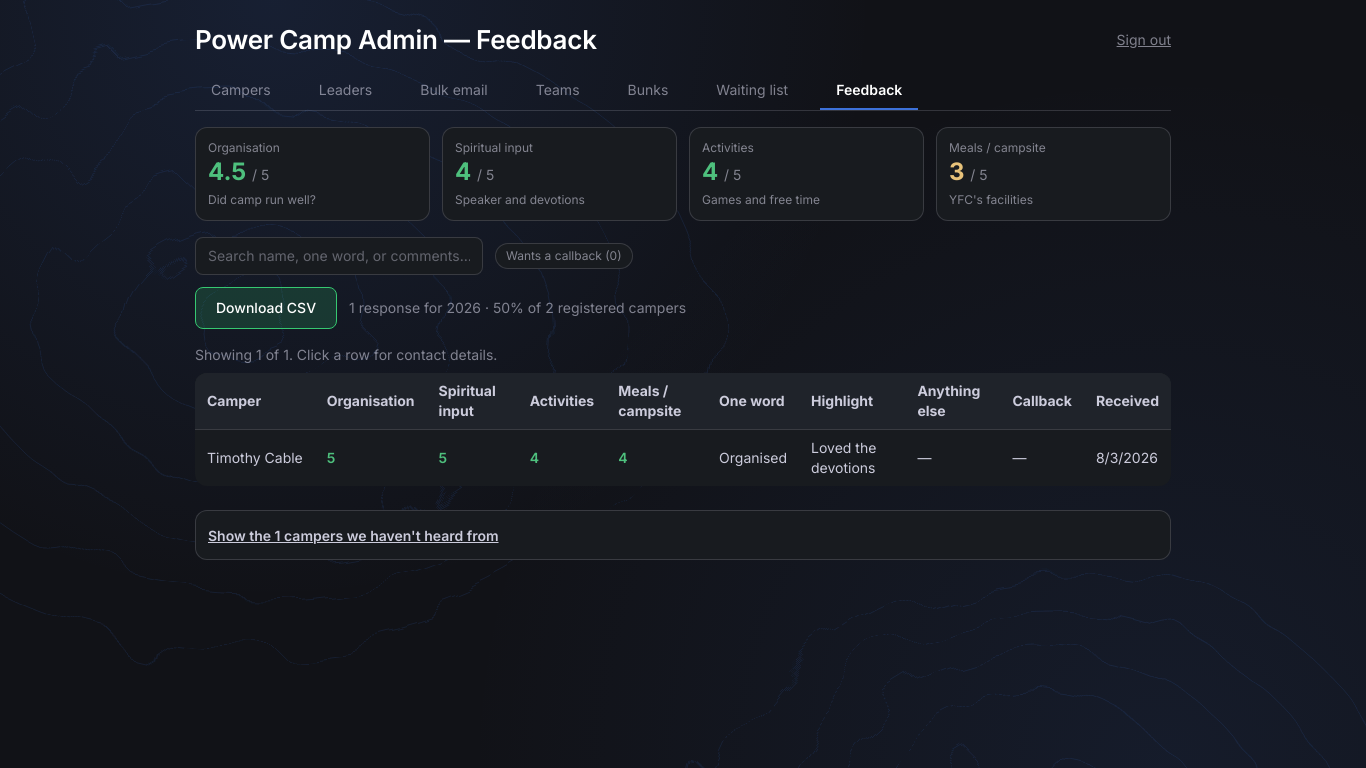
Scenario: AdminFeedbackComponent › keeps the chase list collapsed until asked for
The width and height of the screenshot is (1366, 768).
Check: the text "Emma Cable" is not shown
Click the button with test id "toggle-awaiting": click(353, 536) [208,526,498,546]
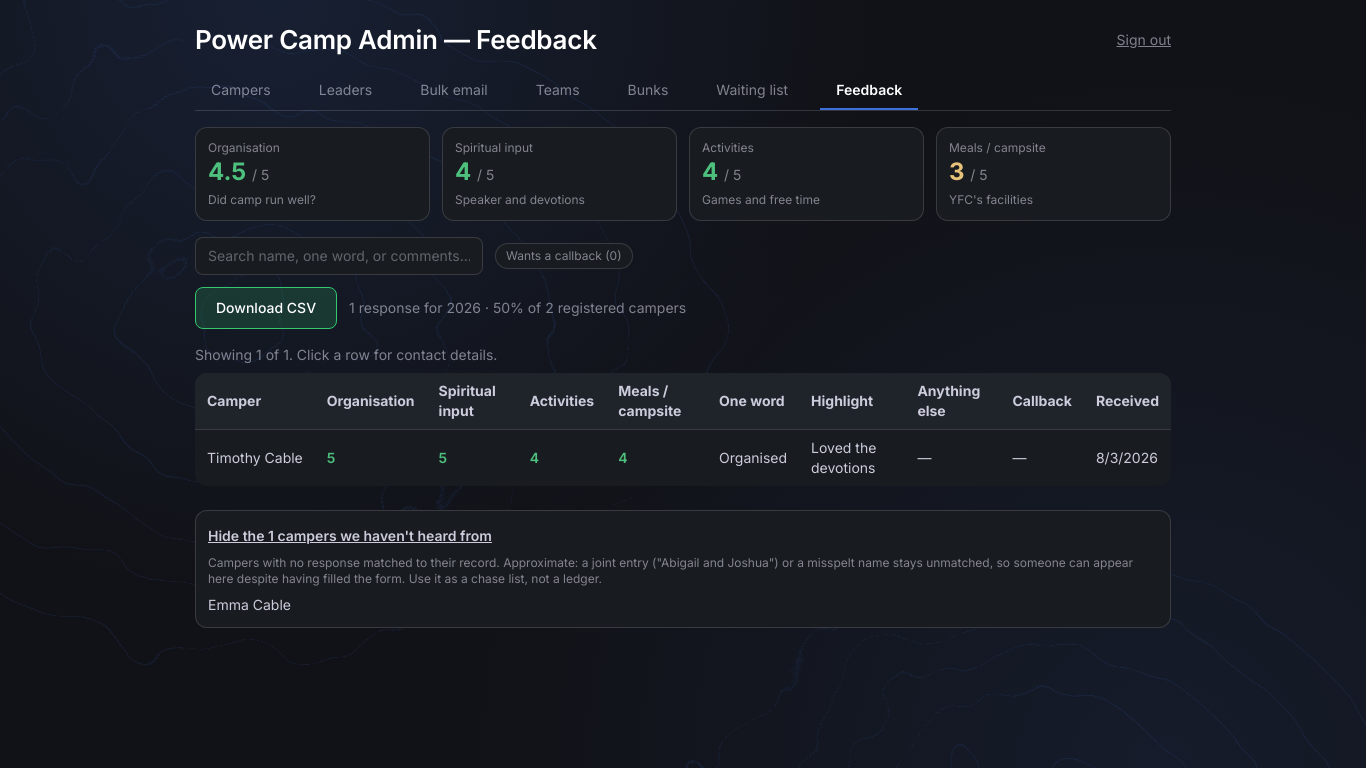
Check: the text "Emma Cable" is shown, box [208,596,291,613]
